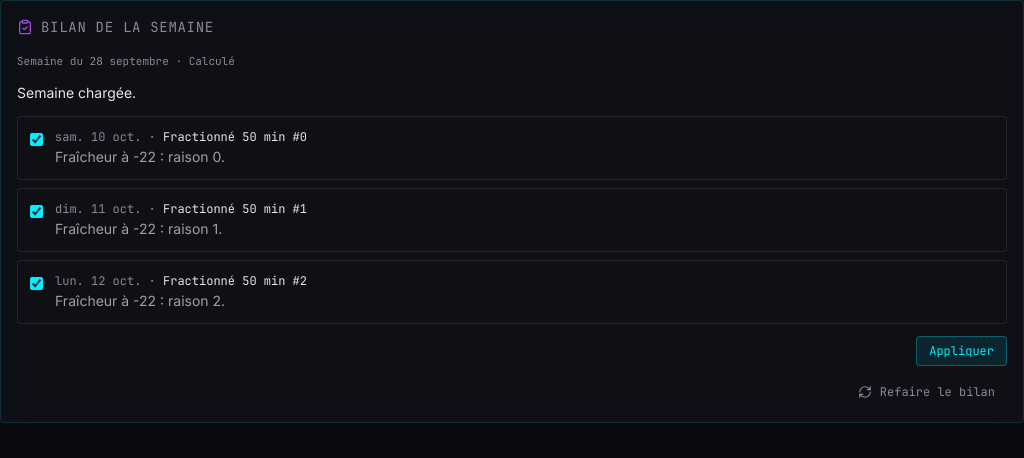
applies the ticked proposals and refreshes the planned sessions
Click the 2nd checkbox: {"x": 36, "y": 212} [30,205,43,218]
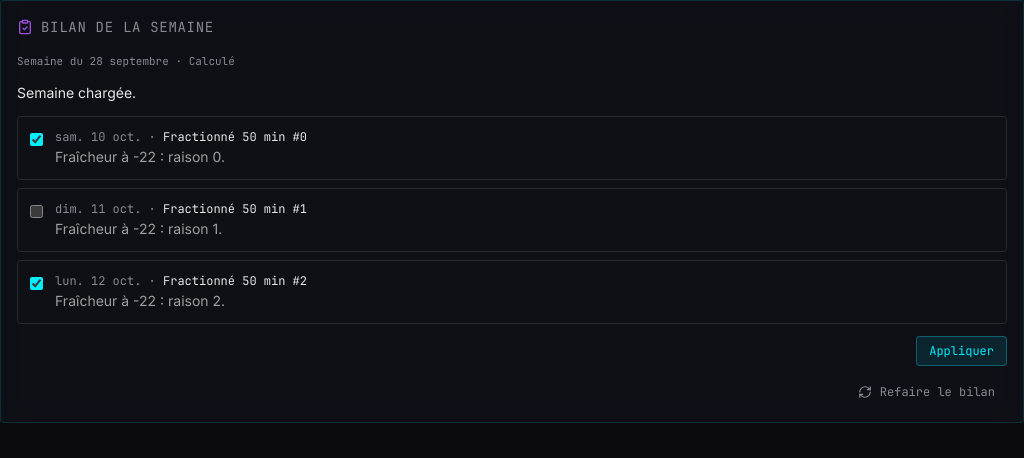
Click the button "Appliquer": {"x": 962, "y": 351} [916,336,1007,366]
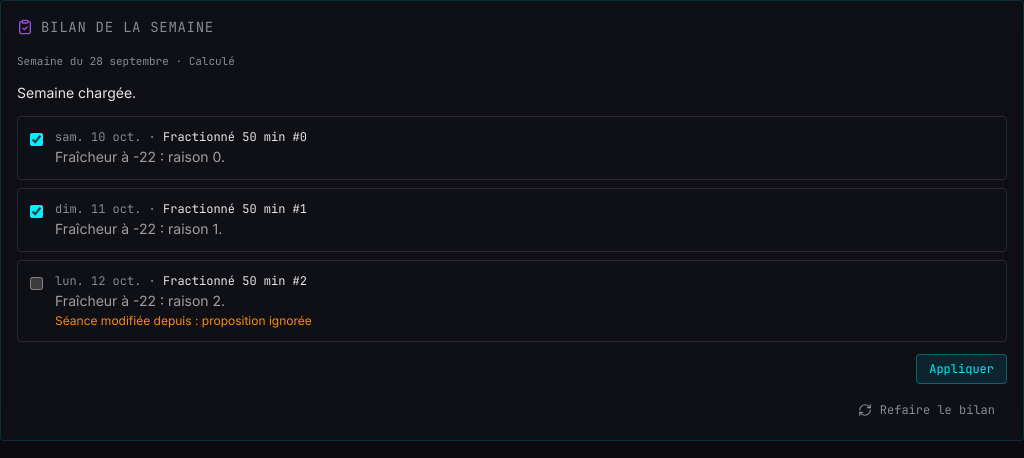
Now the text "Séance modifiée depuis : proposition ignorée" is shown, box [55,313,312,329]
